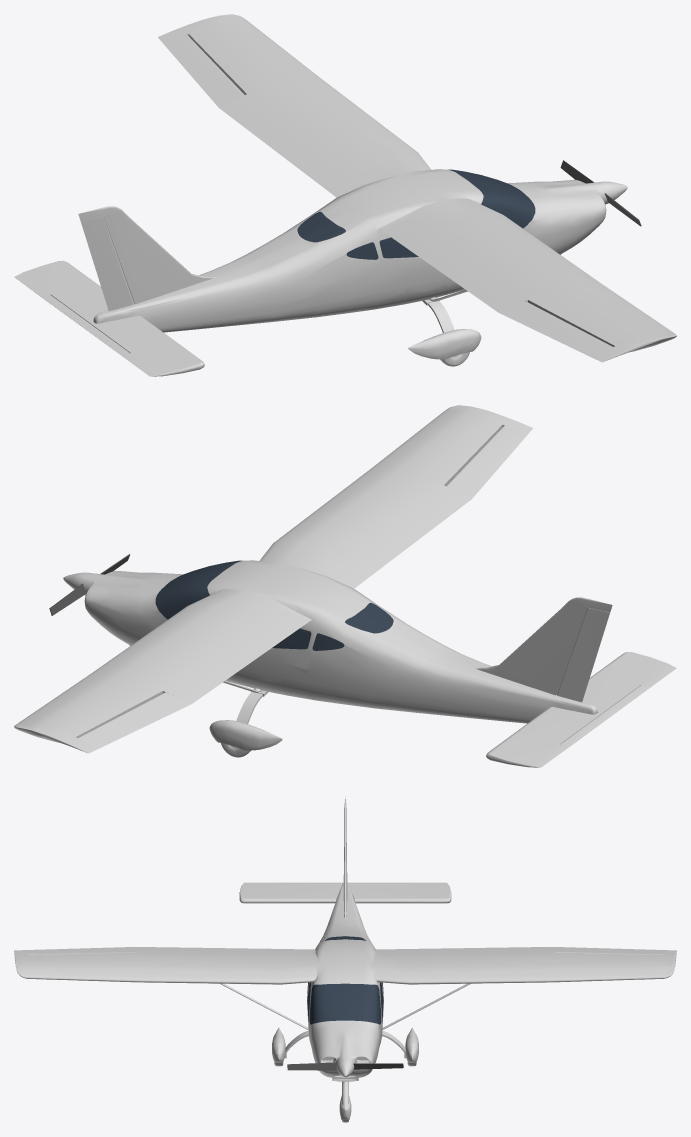
The picture shows the model from 3 angles, top to bottom: view 1: azimuth 30°, elevation 25°; view 2: azimuth 150°, elevation 25°; view 3: azimuth 270°, elevation 25°; orthographic projection. The views are drawn at different scales.
Parts seen in each view (by area): view 1: body, glass; view 2: body, glass, spin; view 3: body, glass, spin.
Part boxes in pixels (<box>): body: <box>14,14,676,376</box>; glass: <box>297,169,535,259</box>; body: <box>14,405,676,767</box>; glass: <box>155,560,393,650</box>; spin: <box>49,554,130,615</box>; body: <box>14,796,676,1122</box>; glass: <box>307,936,383,1024</box>; spin: <box>287,1062,403,1070</box>.
Bounding box in the file's own units: 1.57 × 0.5521 × 2.2.
